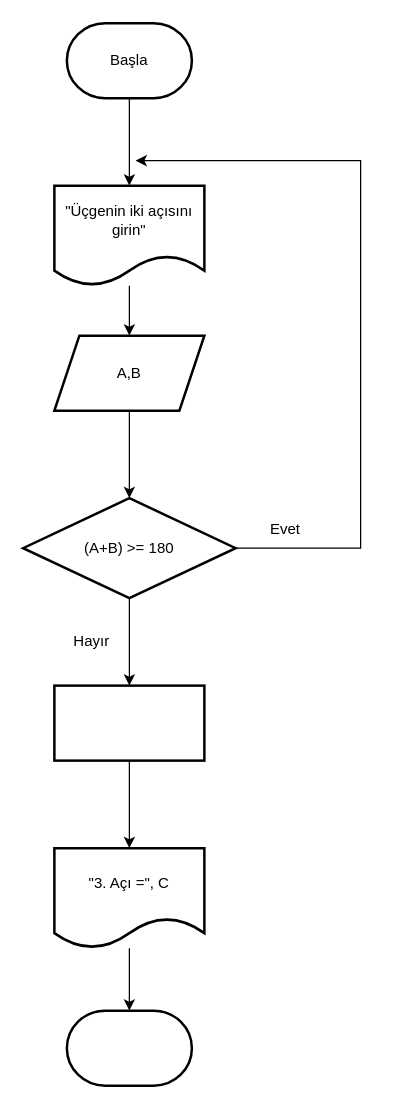
This 393x1108 diagram has some shape labels left out. The centre of each missing label's shape, as x and y in pixels:
"Bitir" belongs at (128,1047).
"C = 180 - (A + B)" belongs at (128,722).
